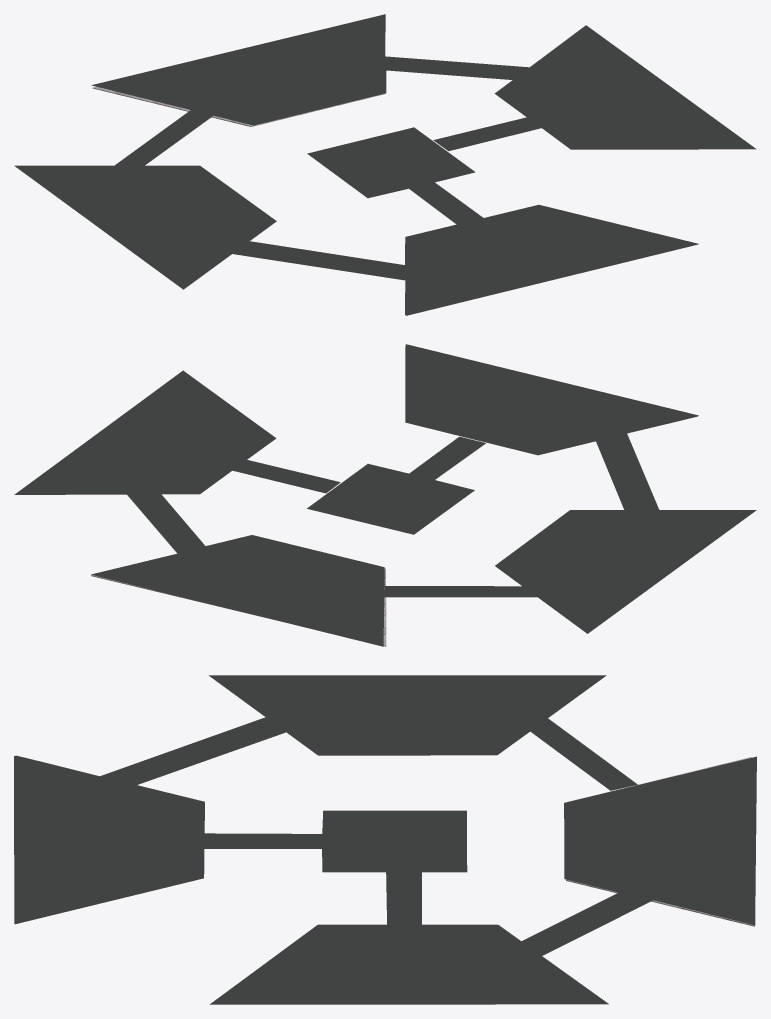
File: piso_mar.glb
3 renders of one model, top to bottom at view 1: azimuth 30°, elevation 25°; view 2: azimuth 150°, elevation 25°; view 3: azimuth 270°, elevation 25°, orthographic. The views are drawn at different scales.
Visible parts, largest first — view 1: malla_techos, piso3; view 2: malla_techos; view 3: malla_techos.
Part boxes in pixels (bbox=[...]): malla_techos: bbox=[14, 14, 756, 315]; piso3: bbox=[92, 86, 385, 126]; malla_techos: bbox=[14, 344, 756, 646]; malla_techos: bbox=[14, 675, 756, 1004].
Size of what is drawn, in the model's own units: 42.94 by 0.1386 by 40.9.
2 materials, 1 textured.
